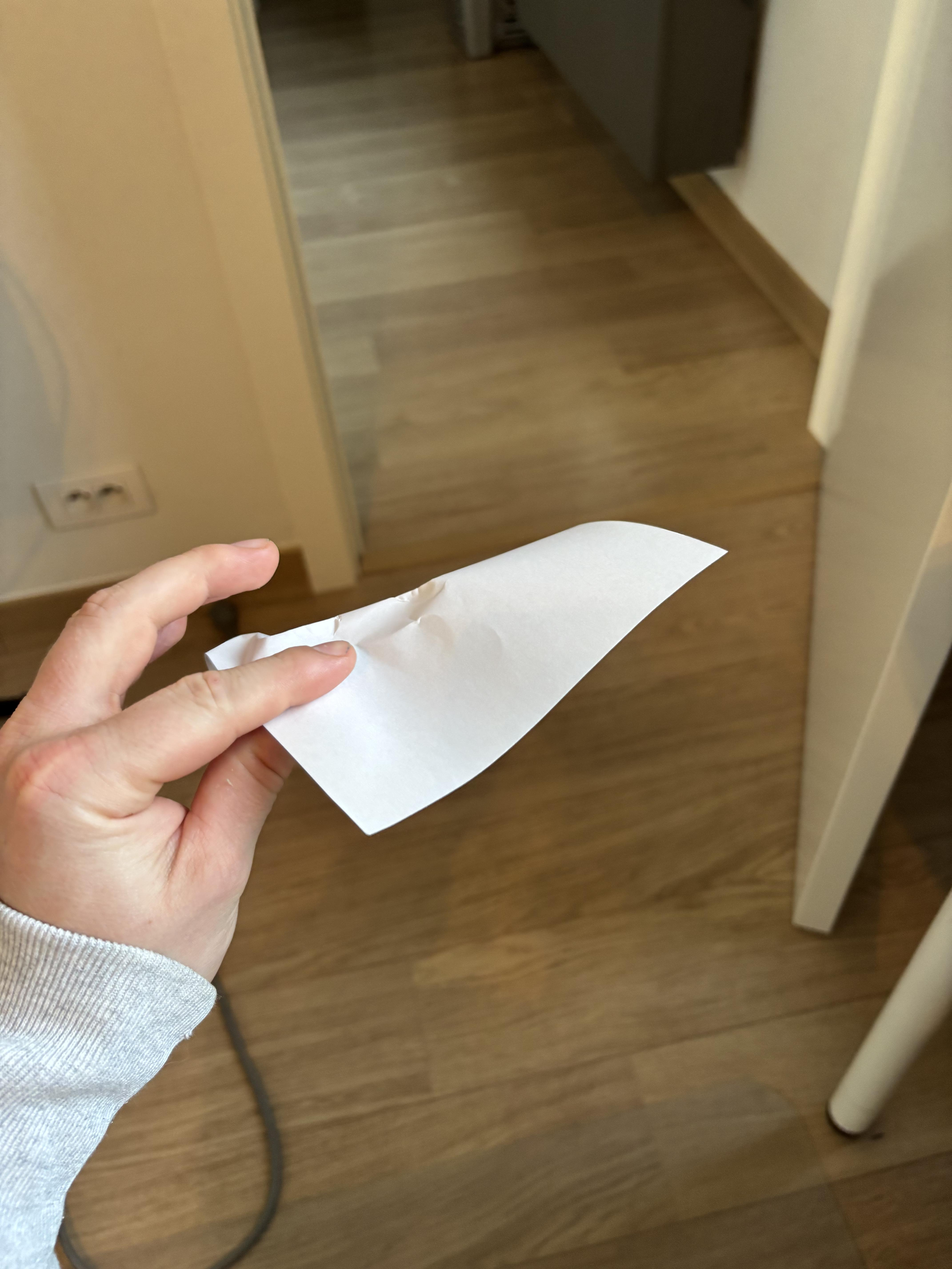Paper: (216, 513, 733, 841)
